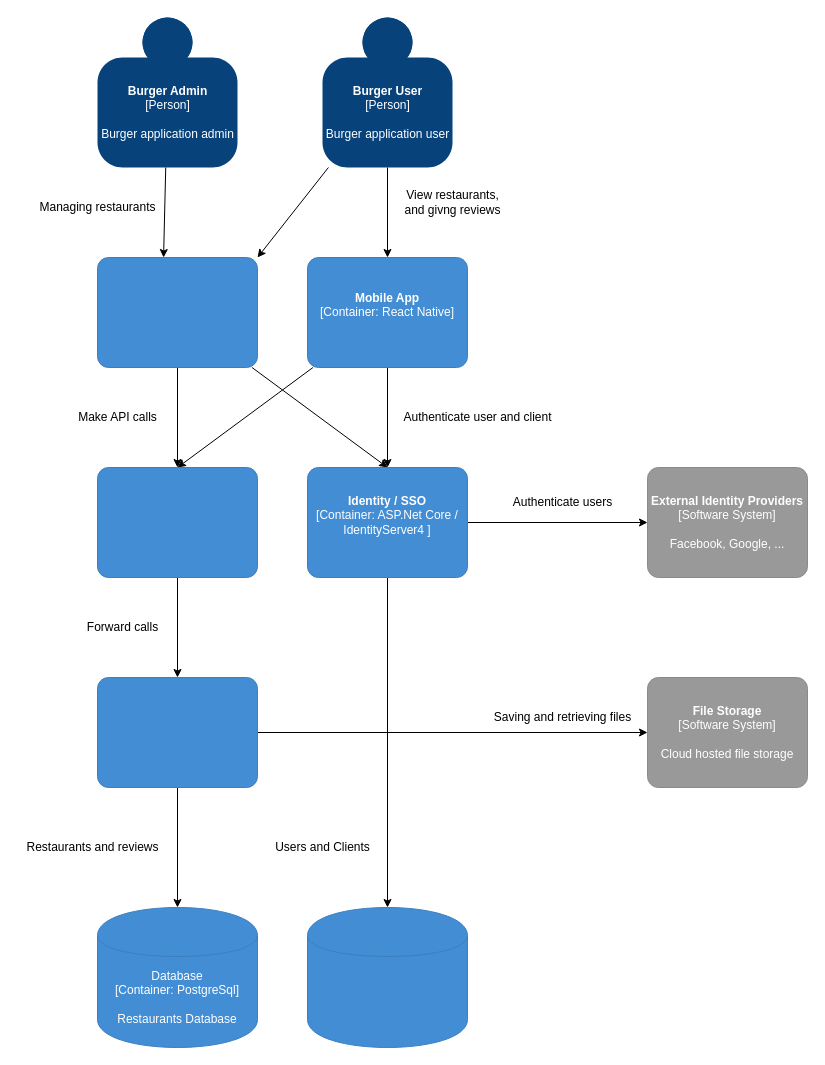
This 825x1065 diagram has some shape labels left out. Each missing label, with the box of its shape:
Api Gateway [Container: ASP.Net Core / YARP]: (96, 466, 258, 578)
Database [Container: PostgreSql] Identity Database: (306, 906, 468, 1048)
Restaurants Service [Container: ASP.Net Core]: (96, 676, 258, 788)
Single Page App [Container: TypeScript Angular/React]: (96, 256, 258, 368)
